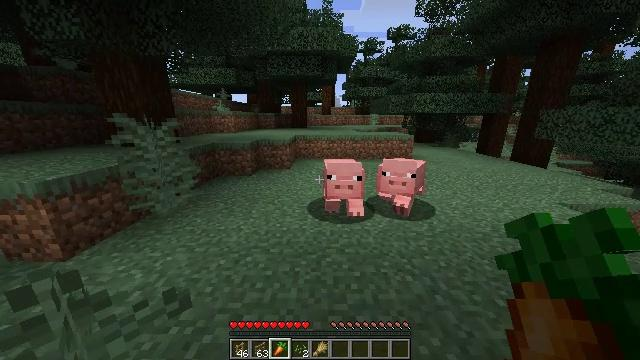pig: (380, 157, 425, 214), (323, 159, 364, 216)
